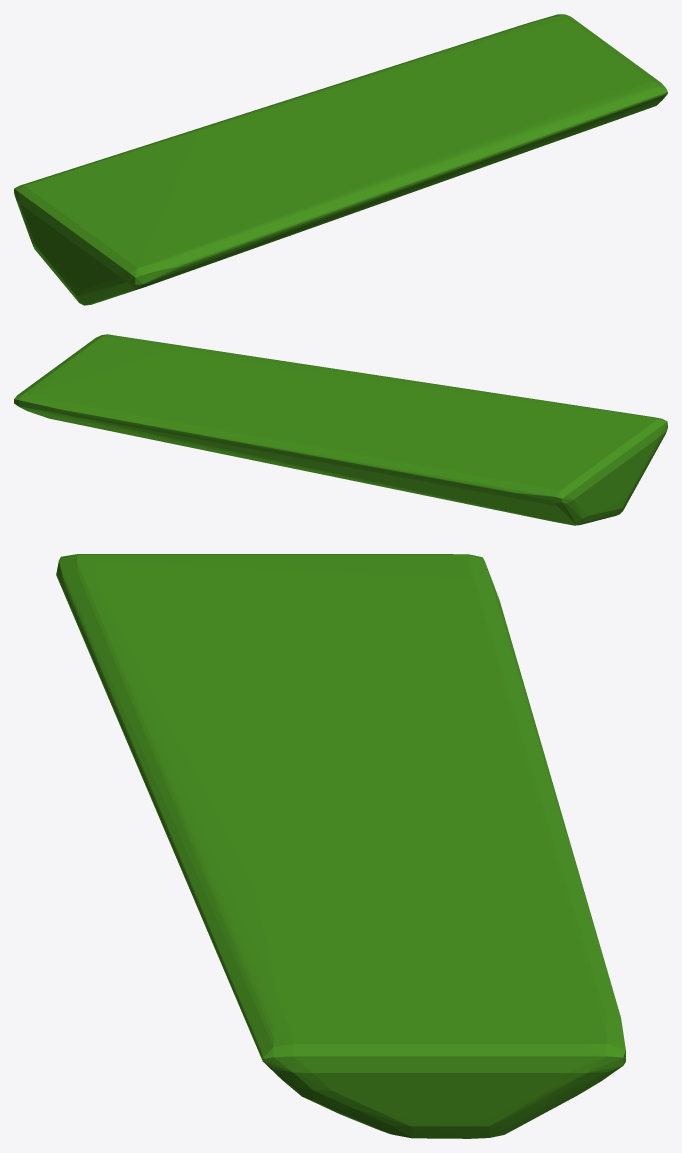
File: left-elbow-0_part_30.obj
3 views of the same model, one above another, from view 1: azimuth 30°, elevation 25°; view 2: azimuth 150°, elevation 25°; view 3: azimuth 270°, elevation 25° (orthographic). The views are drawn at different scales.
Size of the model in its own units: 0.0556 by 0.00648 by 0.0264.
